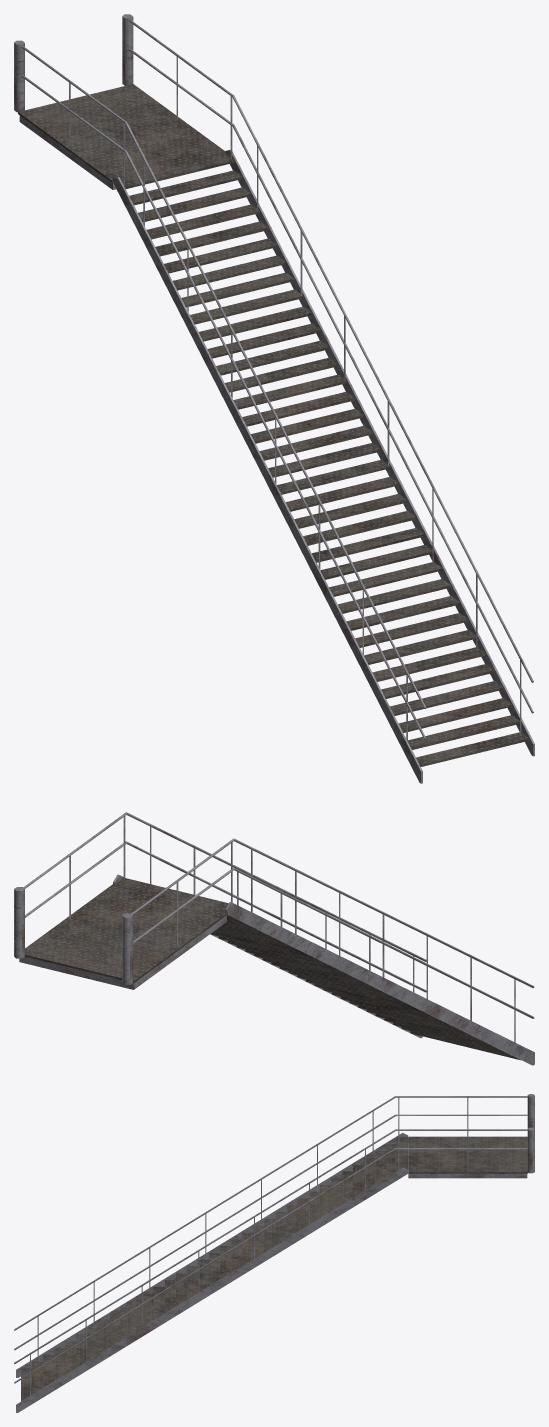
Rendered from Factory1Stairs04.FBX.
The picture shows the model from 3 angles, top to bottom: view 1: azimuth 30°, elevation 25°; view 2: azimuth 150°, elevation 25°; view 3: azimuth 270°, elevation 25°; orthographic projection. The views are drawn at different scales.
Visible parts, largest first — view 1: Factory1Stairs04; view 2: Factory1Stairs04; view 3: Factory1Stairs04.
Boxes of the visible parts, x1=… form: Factory1Stairs04: x1=14, y1=14, x2=534, y2=783; Factory1Stairs04: x1=14, y1=812, x2=534, y2=1065; Factory1Stairs04: x1=14, y1=1094, x2=534, y2=1412.
Size of the model in its own units: 133 by 486 by 810.
